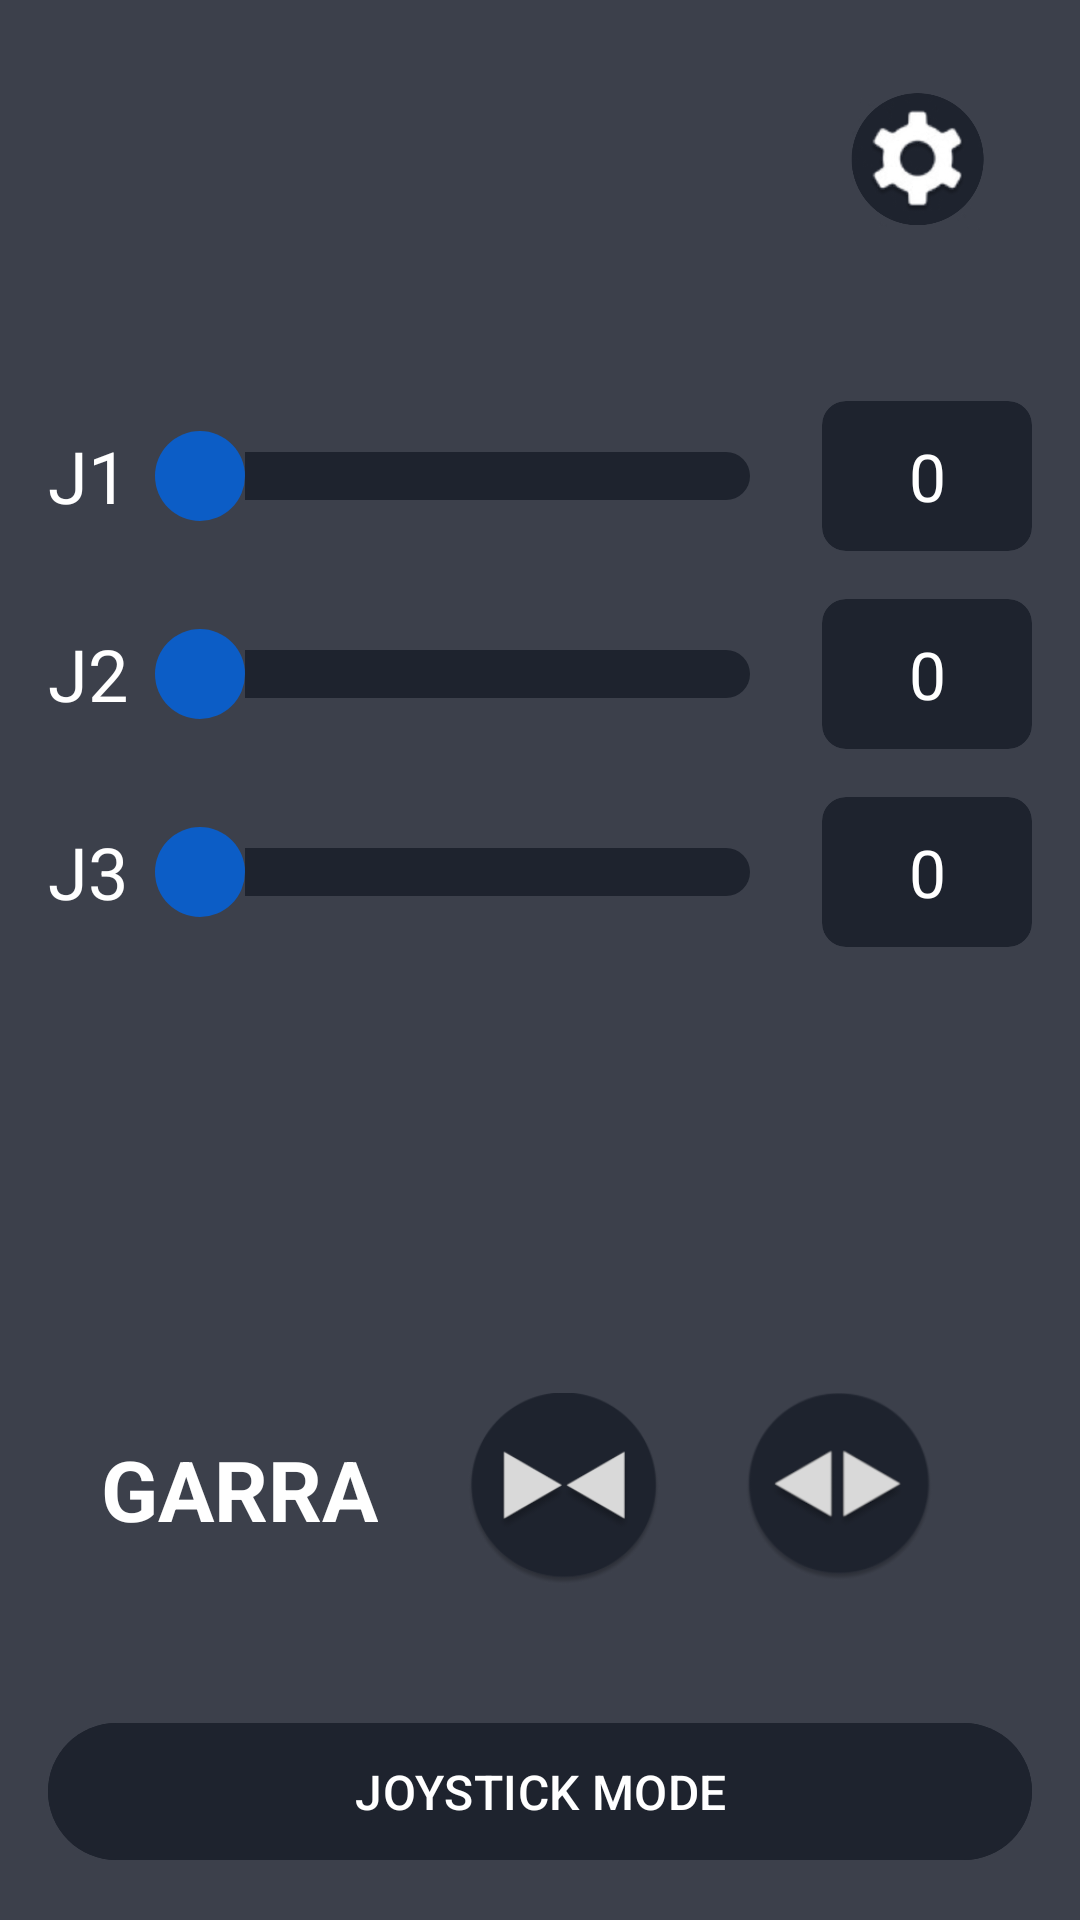

Point at icon controls on the screen. Image size 1080 x 1920, points as [x,y].
engrenagem: [917,159]
